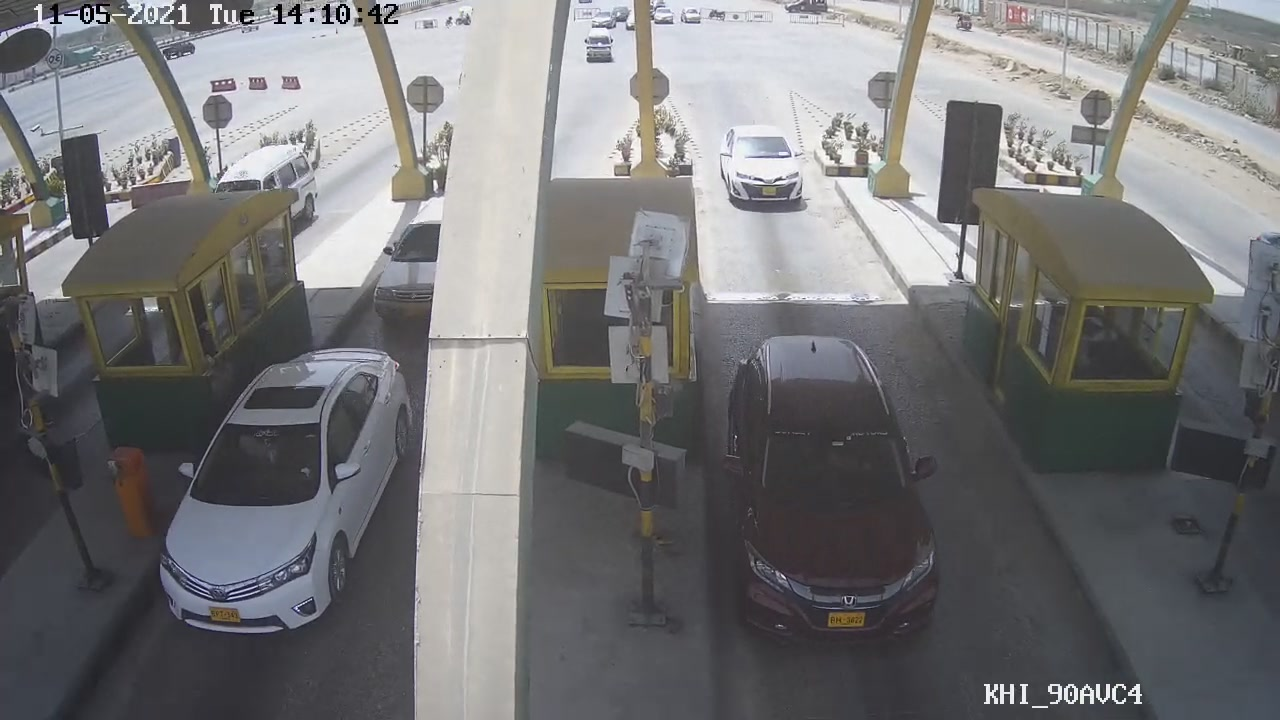F1: (723, 326, 951, 648)
